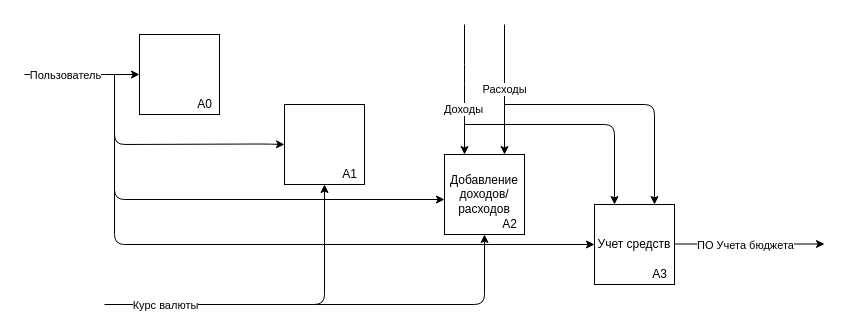
Some shapes in this 850 by 330 pixel diagram are drawn without their labels. The box of each missing label's shape, as (x1, y1, x2, y2) in pixels:
Регистрация: (138, 34, 220, 114)
Создание счета: (284, 104, 364, 184)
